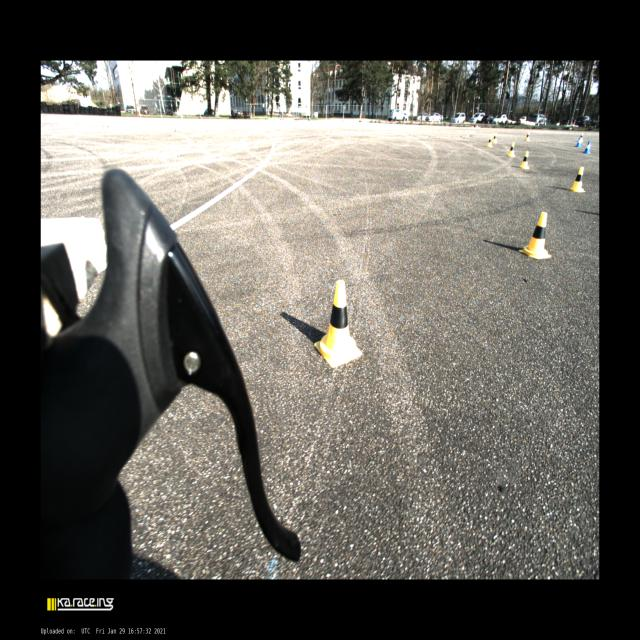blue_cone: (583, 140, 591, 154), (575, 136, 582, 147)
yellow_cone: (314, 280, 363, 368), (519, 212, 551, 259), (568, 166, 586, 192), (519, 150, 530, 170), (507, 142, 516, 157), (487, 136, 492, 148), (578, 132, 584, 142), (524, 132, 530, 141), (493, 133, 497, 143)
